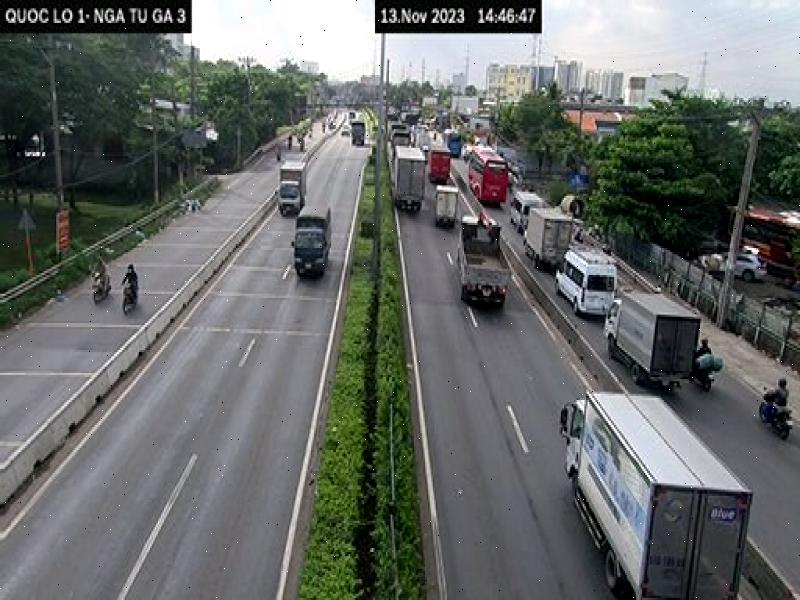truck: (558, 383, 752, 600), (604, 287, 699, 395)
